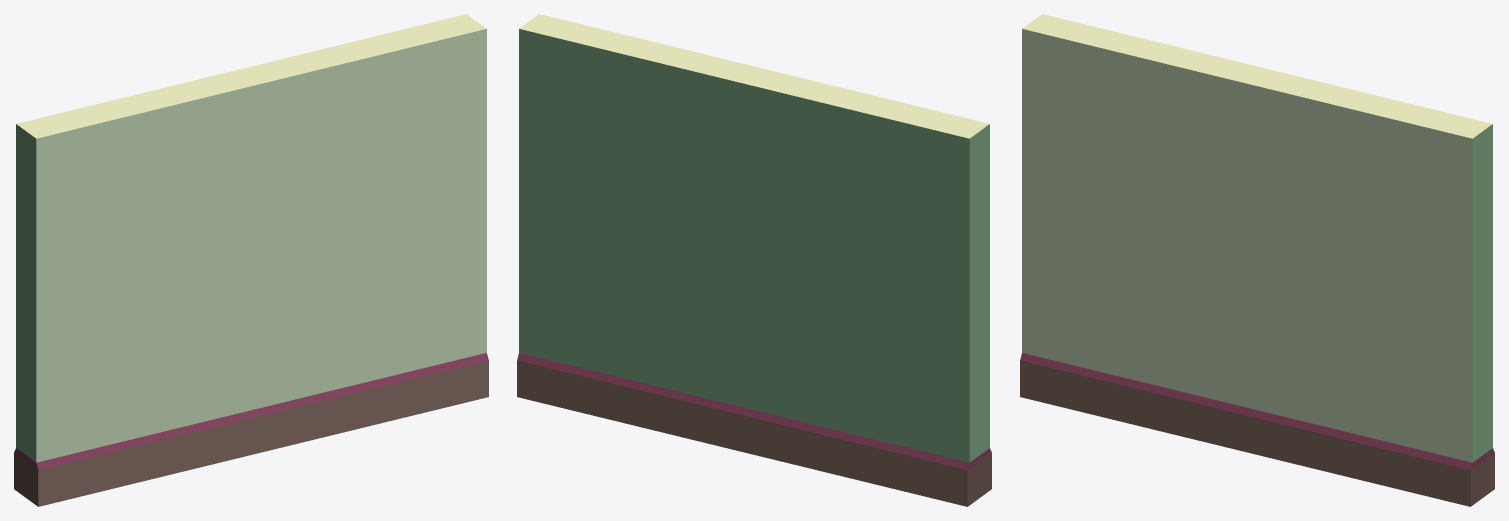
Rendered from Wall_01.fbx.
The picture shows the model from 3 angles, left to right: view 1: azimuth 30°, elevation 25°; view 2: azimuth 150°, elevation 25°; view 3: azimuth 330°, elevation 25°; orthographic projection.
Parts seen in each view (by area): view 1: Wall_01; view 2: Wall_01; view 3: Wall_01.
Boxes of the visible parts, left/top/right/bottom form: Wall_01: left=14, top=14, right=488, bottom=506; Wall_01: left=517, top=14, right=991, bottom=506; Wall_01: left=1020, top=14, right=1494, bottom=506.
Size of the model in its own units: 152 by 118 by 14.18.
